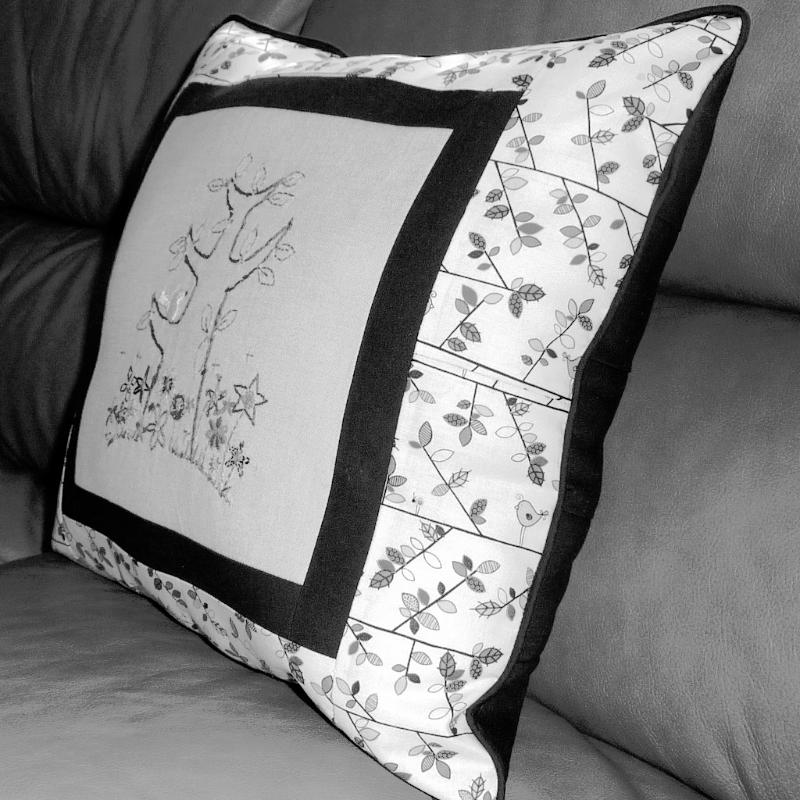pillow: (53, 17, 746, 799)
